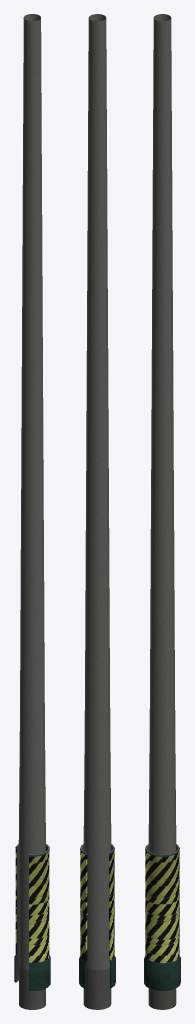
The model's file is Preset_Pole_Simple.fbx.
3 views of the same model, side by side, from view 1: azimuth 90°, elevation 25°; view 2: azimuth 150°, elevation 25°; view 3: azimuth 330°, elevation 25° (orthographic).
Parts seen in each view (by area): view 1: Concrete, Reflactor; view 2: Concrete, Reflactor; view 3: Concrete, Reflactor.
Part boxes in pixels (x1,y1,x2,y2): Concrete: (14, 14, 50, 1009); Reflactor: (15, 848, 49, 962); Concrete: (79, 14, 115, 1009); Reflactor: (80, 850, 114, 961); Concrete: (144, 14, 180, 1009); Reflactor: (145, 850, 179, 963).
Size of the model in its own units: 48.59 by 48.57 by 1465.
Materials: 2 (2 with a texture image).
